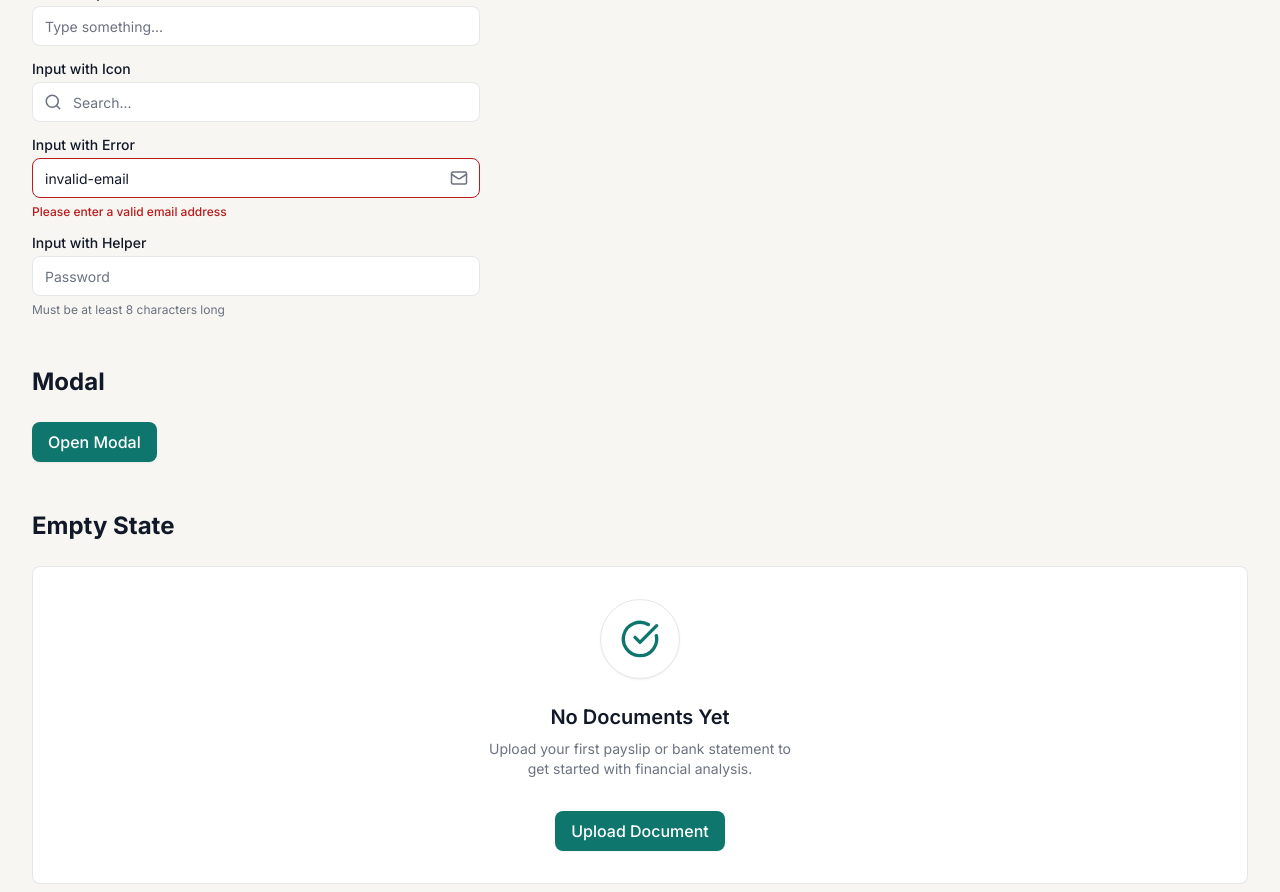
Test: ComponentGallery › opens modal when clicking button
(page scrolled)
Click the button "Open Modal".
click(94, 442)  # box [32, 422, 157, 462]
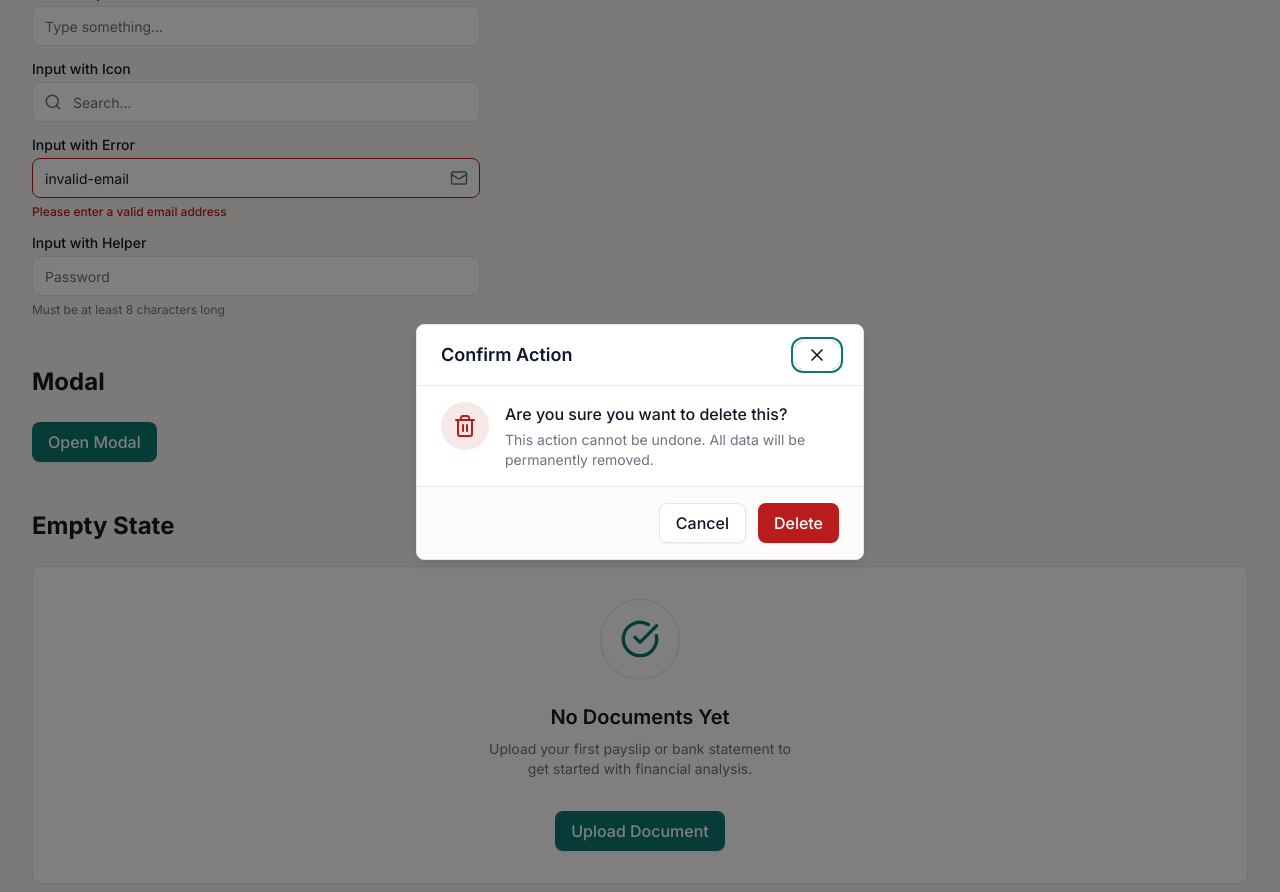
Now the heading "Confirm Action" is shown, box [441, 341, 572, 369]
